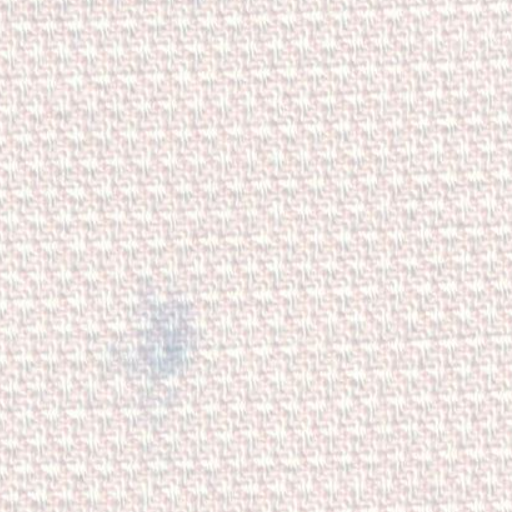WuZi: (88, 278, 216, 392)
